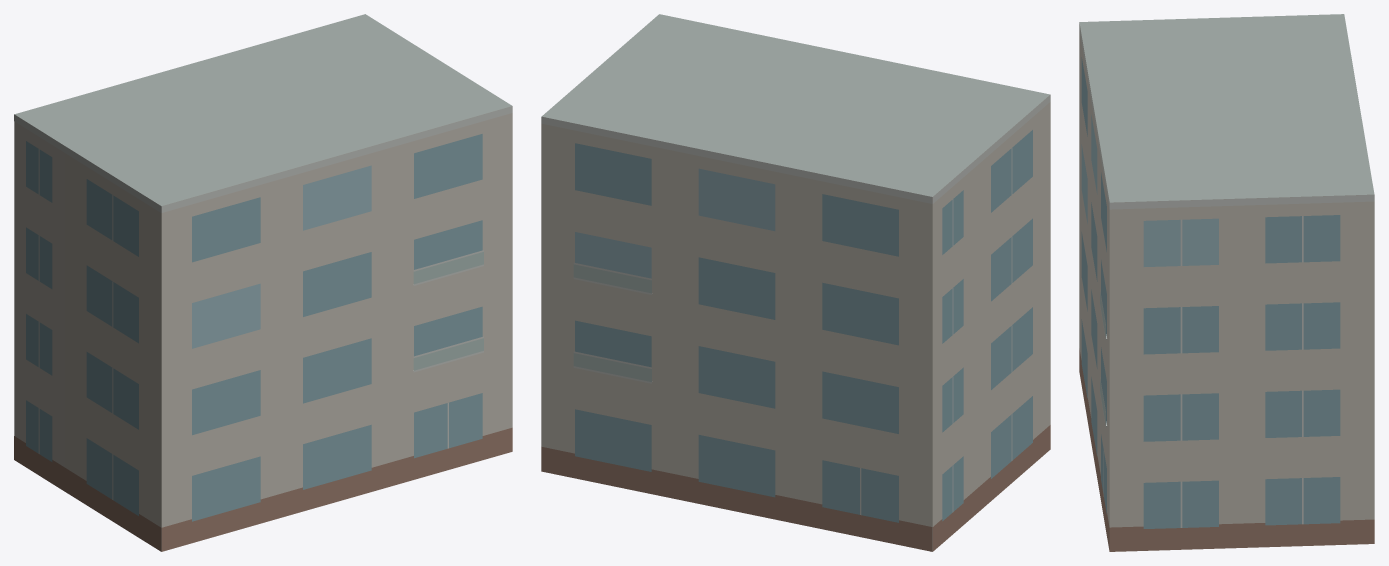
File: residential-8f85ce64-fe15-4357-a9a6-e2e68aede188.glb
The picture shows the model from 3 angles, left to right: view 1: azimuth 30°, elevation 25°; view 2: azimuth 150°, elevation 25°; view 3: azimuth 270°, elevation 25°; orthographic projection. The views are drawn at different scales.
Parts seen in each view (by area): view 1: residential-8f85ce64-fe15-4357-a9a6-e2e68aede188.tmp; view 2: residential-8f85ce64-fe15-4357-a9a6-e2e68aede188.tmp; view 3: residential-8f85ce64-fe15-4357-a9a6-e2e68aede188.tmp.
Boxes of the visible parts, x1,y1,x2,y2 form: residential-8f85ce64-fe15-4357-a9a6-e2e68aede188.tmp: [14, 14, 512, 551]; residential-8f85ce64-fe15-4357-a9a6-e2e68aede188.tmp: [541, 14, 1050, 551]; residential-8f85ce64-fe15-4357-a9a6-e2e68aede188.tmp: [1079, 14, 1374, 551].
Bounding box in the file's own units: 14.13 × 12.2 × 9.35.
